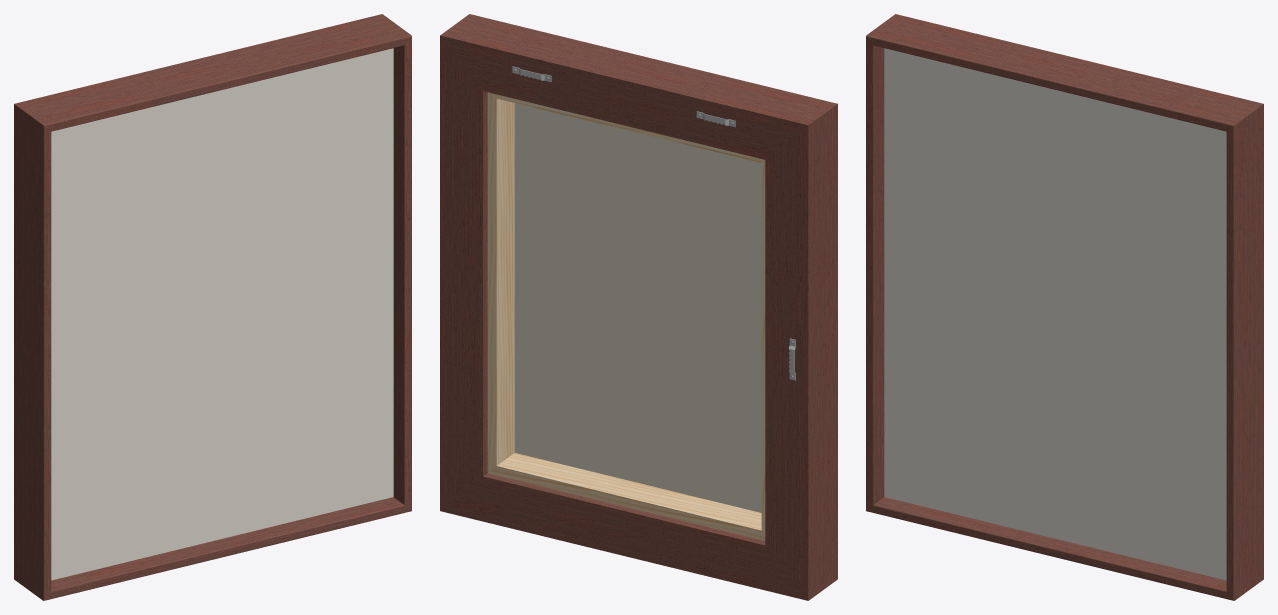
File: delivery.glb
3 renders of one model, left to right at view 1: azimuth 30°, elevation 25°; view 2: azimuth 150°, elevation 25°; view 3: azimuth 330°, elevation 25°, orthographic.
Parts seen in each view (by area): view 1: Canvas artwork front, Tray approved profile 0; view 2: Tray approved profile 0, Canvas linen reverse, Stretcher top, Sawtooth hanger 0; view 3: Canvas artwork front, Tray approved profile 0.
Boxes of the visible parts, x1,y1,x2,y2 form: Canvas artwork front: (51, 48, 393, 580); Tray approved profile 0: (14, 14, 411, 600); Tray approved profile 0: (440, 14, 837, 600); Canvas linen reverse: (514, 103, 761, 512); Stretcher top: (487, 92, 765, 540); Sawtooth hanger 0: (512, 66, 795, 380); Canvas artwork front: (884, 48, 1226, 580); Tray approved profile 0: (866, 14, 1263, 600).
Bounding box in the file's own units: 0.428 × 0.528 × 0.0624.
Materials: 7 (3 with a texture image).
